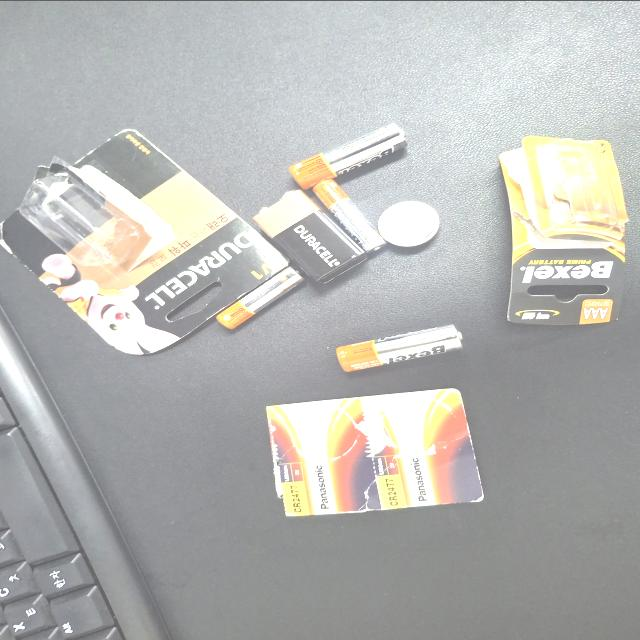9V: (478, 350, 602, 434)
AA: (359, 412, 422, 507), (602, 377, 640, 465)
AAA: (518, 394, 616, 450), (416, 322, 498, 387)
COIN: (525, 444, 587, 489)
